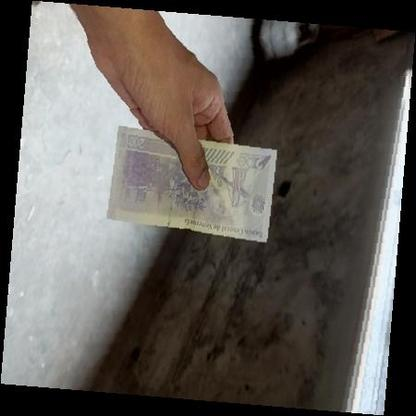two_hundred-back-vef: (105, 124, 278, 244)
